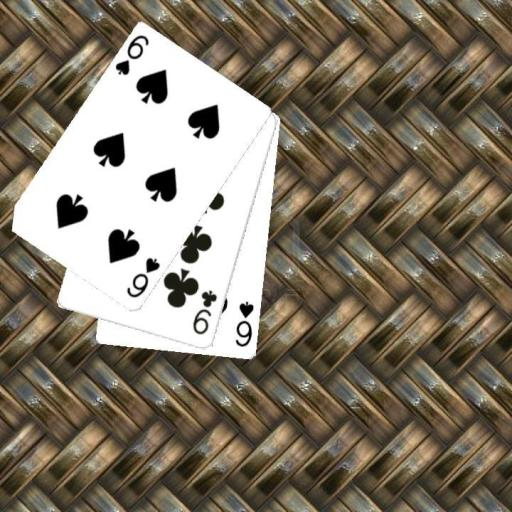6S: (112, 32, 151, 78), (123, 255, 161, 300), (233, 298, 256, 348)
9C: (189, 287, 219, 337)
